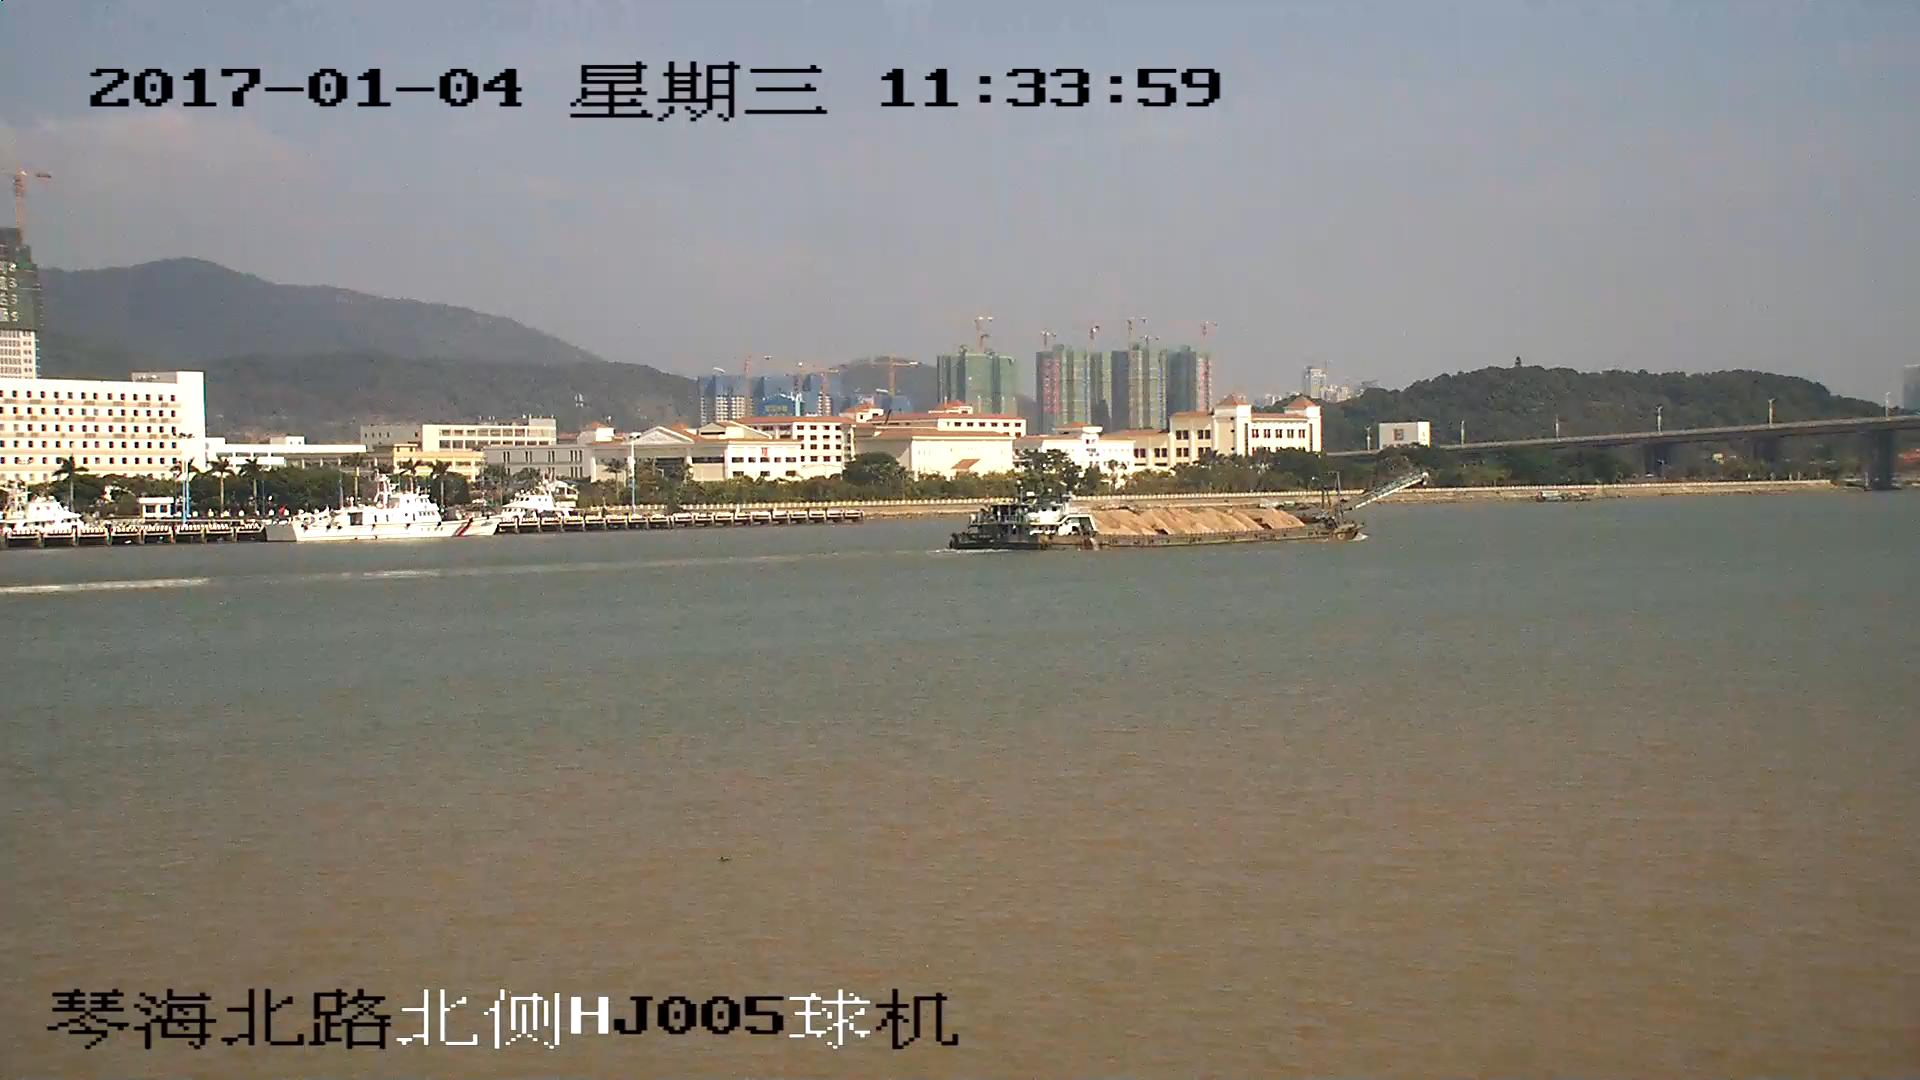ore carrier: (952, 472, 1428, 551)
